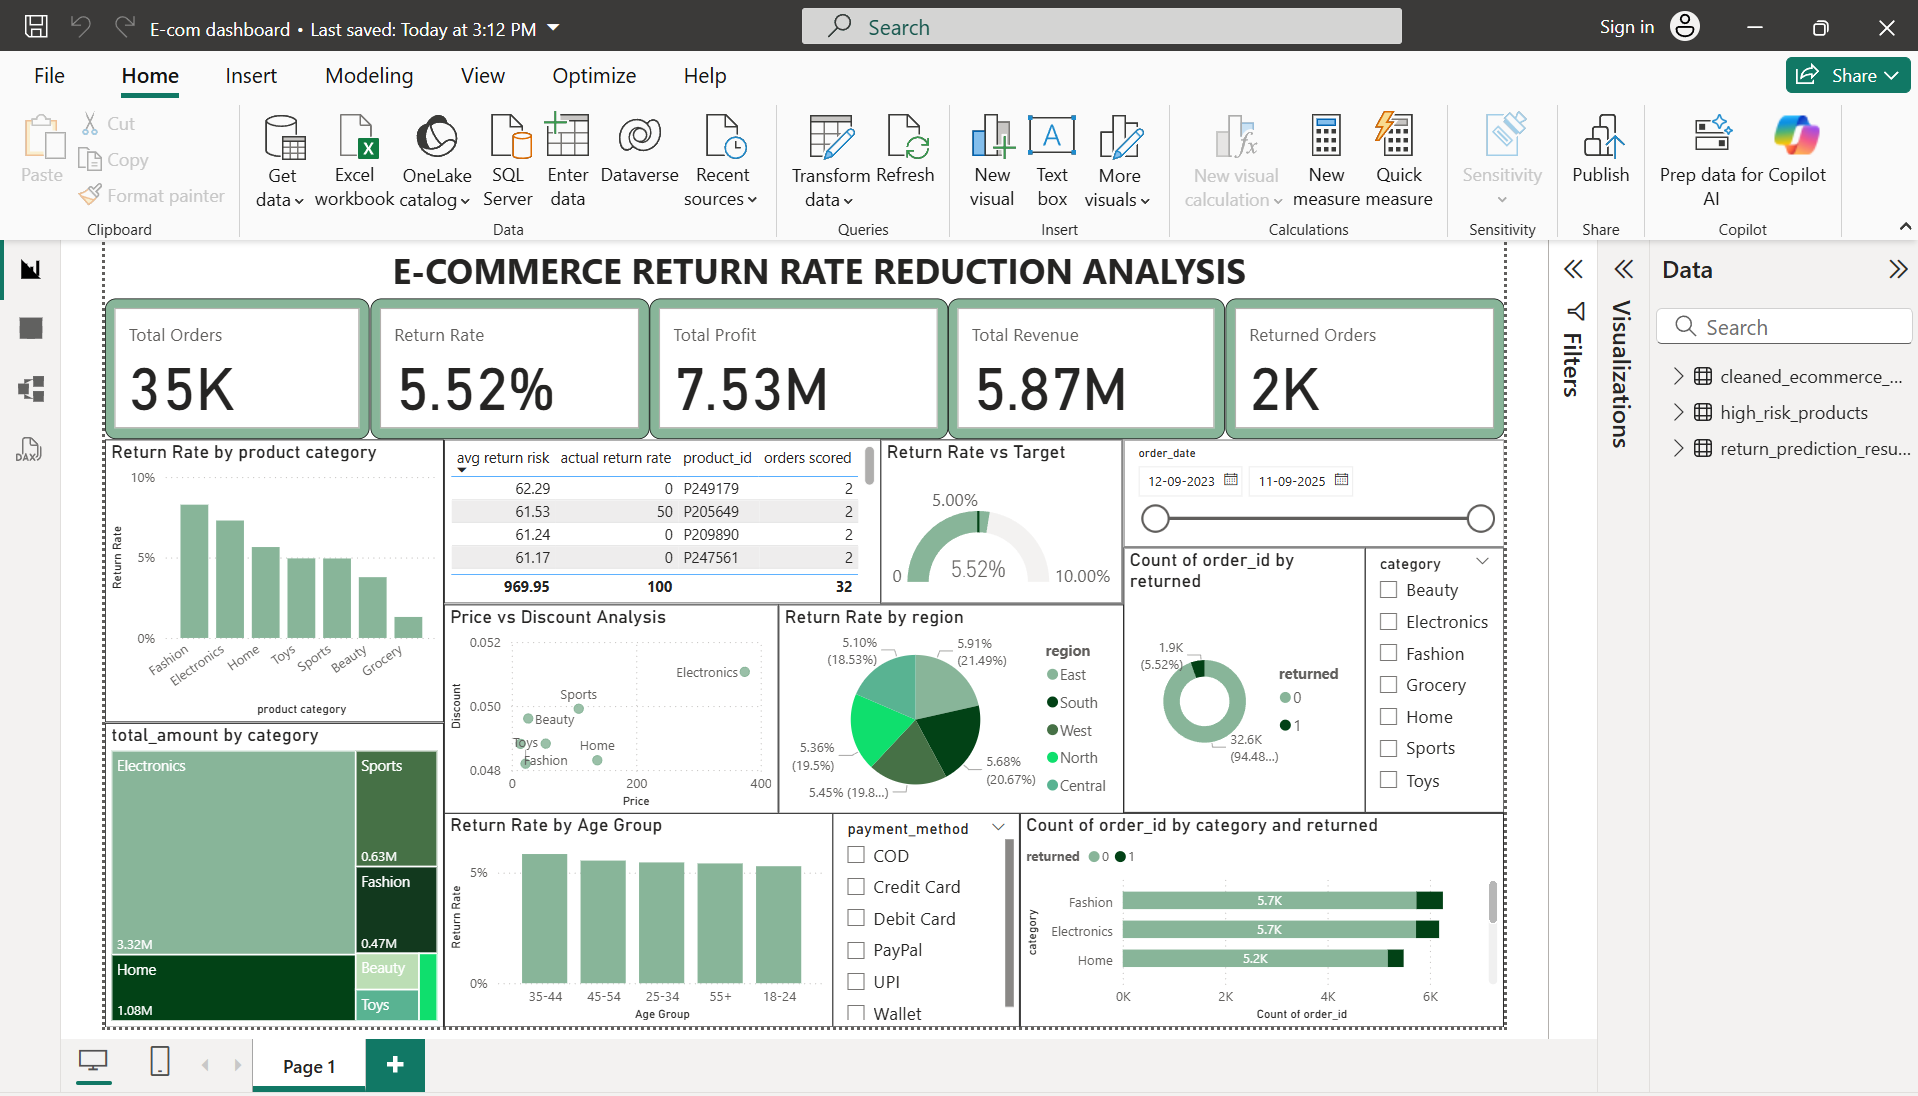

The dashboard page shown, as its layout file describes it:
{"tool":"powerbi","page":{"name":"Page 1","canvas":[1280,720],"ordinal":0},"visuals":[{"type":"textbox","box":[10,0,280,280],"z":0},{"type":"textbox","box":[257.8,0,835.6,53.3],"z":1000},{"type":"cardVisual","fields":{"Data":["return_prediction_results.Total Orders"]},"box":[0,53.3,242.2,128.9],"z":2000},{"type":"cardVisual","fields":{"Data":["cleaned_ecommerce_data.Returned Orders"]},"box":[1024.4,53.3,255.6,128.9],"z":3000},{"type":"cardVisual","fields":{"Data":["cleaned_ecommerce_data.Return Rate"]},"box":[242.2,53.3,255.6,128.9],"z":4000},{"type":"cardVisual","fields":{"Data":["cleaned_ecommerce_data.Total Profit"]},"box":[497.8,53.3,273.3,128.9],"z":5000},{"type":"cardVisual","fields":{"Data":["cleaned_ecommerce_data.Total Revenue"]},"box":[771.1,53.3,253.3,128.9],"z":6000},{"type":"clusteredColumnChart","fields":{"Category":["cleaned_ecommerce_data.category"],"Y":["cleaned_ecommerce_data.Return Rate"]},"box":[0,182.9,310,258.6],"z":7000},{"type":"barChart","fields":{"Category":["cleaned_ecommerce_data.category"],"Y":["CountNonNull(cleaned_ecommerce_data.order_id)"],"Series":["cleaned_ecommerce_data.returned"]},"box":[837.1,524.3,442.9,195.7],"z":8000},{"type":"treemap","fields":{"Values":["Sum(cleaned_ecommerce_data.total_amount)"],"Group":["cleaned_ecommerce_data.category"]},"box":[0,441.4,310,278.6],"z":9000},{"type":"slicer","fields":{"Values":["cleaned_ecommerce_data.category"]},"box":[1152.9,281.4,127.1,242.9],"z":11000},{"type":"slicer","fields":{"Values":["cleaned_ecommerce_data.order_date"]},"box":[931.4,182.9,348.6,98.6],"z":13000},{"type":"tableEx","fields":{"Values":["Sum(high_risk_products.average_return_risk)","Sum(high_risk_products.actual_return_rate)","high_risk_products.product_id","Sum(high_risk_products.orders_scored)"]},"box":[310,182.9,400,150],"z":14000},{"type":"gauge","title":"Return Rate vs Target","fields":{"Y":["cleaned_ecommerce_data.Return Rate"],"MaxValue":["cleaned_ecommerce_data.Maximum Return Rate"],"MinValue":["cleaned_ecommerce_data.Minimum Return Rate"],"TargetValue":["cleaned_ecommerce_data.Target Return Rate"]},"box":[710,182.9,221.4,150],"z":15000},{"type":"clusteredColumnChart","fields":{"Category":["cleaned_ecommerce_data.Age Group"],"Y":["cleaned_ecommerce_data.Return Rate"]},"box":[310,524.3,355.7,195.7],"z":16000},{"type":"donutChart","fields":{"Category":["cleaned_ecommerce_data.returned"],"Y":["CountNonNull(cleaned_ecommerce_data.order_id)"]},"box":[931.4,281.4,221.4,242.9],"z":17000},{"type":"scatterChart","title":"Price vs Discount Analysis","fields":{"X":["cleaned_ecommerce_data.Average Price"],"Y":["cleaned_ecommerce_data.Average Discount"],"Category":["cleaned_ecommerce_data.category"]},"box":[310,332.9,305.7,191.4],"z":18000},{"type":"slicer","fields":{"Values":["cleaned_ecommerce_data.payment_method"]},"box":[665.7,524.3,171.4,195.7],"z":18001},{"type":"pieChart","fields":{"Y":["cleaned_ecommerce_data.Return Rate"],"Category":["cleaned_ecommerce_data.region"]},"box":[615.7,332.9,315.7,191.4],"z":18002}]}

Visuals, with their boxes on the page's 1280x720 design canvas (x1, y1, x2, y2). These are canvas units, not pixel positions in the 1918x1096 screenshot, which may show the page scaled, cropped or inside an application window:
textbox: x1=10, y1=0, x2=290, y2=280
textbox: x1=258, y1=0, x2=1093, y2=53
cardVisual - return_prediction_results.Total Orders: x1=0, y1=53, x2=242, y2=182
cardVisual - cleaned_ecommerce_data.Returned Orders: x1=1024, y1=53, x2=1280, y2=182
cardVisual - cleaned_ecommerce_data.Return Rate: x1=242, y1=53, x2=498, y2=182
cardVisual - cleaned_ecommerce_data.Total Profit: x1=498, y1=53, x2=771, y2=182
cardVisual - cleaned_ecommerce_data.Total Revenue: x1=771, y1=53, x2=1024, y2=182
clusteredColumnChart - cleaned_ecommerce_data.category x cleaned_ecommerce_data.Return Rate: x1=0, y1=183, x2=310, y2=442
barChart - cleaned_ecommerce_data.category x CountNonNull(cleaned_ecommerce_data.order_id): x1=837, y1=524, x2=1280, y2=720
treemap - Sum(cleaned_ecommerce_data.total_amount) x cleaned_ecommerce_data.category: x1=0, y1=441, x2=310, y2=720
slicer - cleaned_ecommerce_data.category: x1=1153, y1=281, x2=1280, y2=524
slicer - cleaned_ecommerce_data.order_date: x1=931, y1=183, x2=1280, y2=282
tableEx - Sum(high_risk_products.average_return_risk) x Sum(high_risk_products.actual_return_rate): x1=310, y1=183, x2=710, y2=333
"Return Rate vs Target" gauge: x1=710, y1=183, x2=931, y2=333
clusteredColumnChart - cleaned_ecommerce_data.Age Group x cleaned_ecommerce_data.Return Rate: x1=310, y1=524, x2=666, y2=720
donutChart - cleaned_ecommerce_data.returned x CountNonNull(cleaned_ecommerce_data.order_id): x1=931, y1=281, x2=1153, y2=524
"Price vs Discount Analysis" scatterChart: x1=310, y1=333, x2=616, y2=524
slicer - cleaned_ecommerce_data.payment_method: x1=666, y1=524, x2=837, y2=720
pieChart - cleaned_ecommerce_data.Return Rate x cleaned_ecommerce_data.region: x1=616, y1=333, x2=931, y2=524
